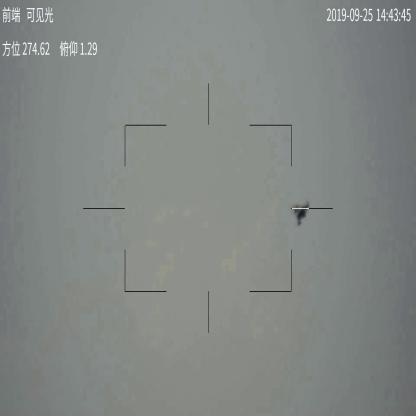uav: (292, 199, 312, 225)
